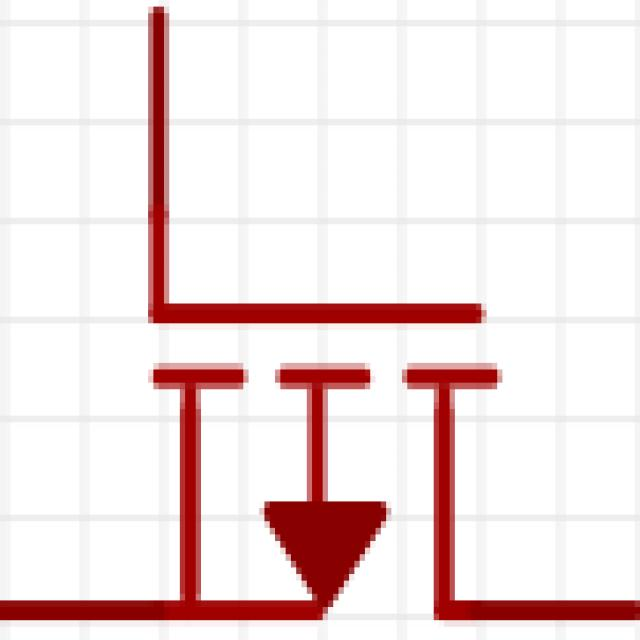pmos: (11, 18, 633, 640)
